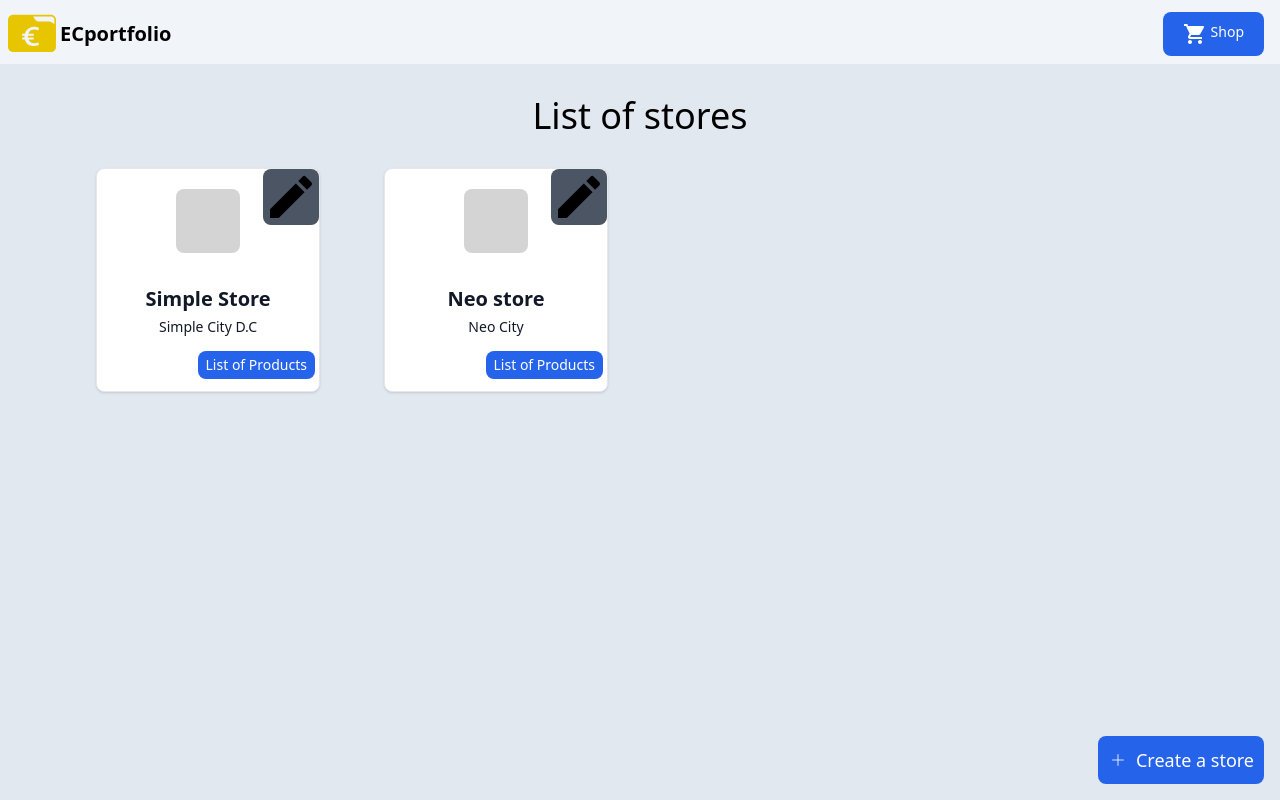
Test: Store Crud Test › Read a store using edit mode
Click the button with id "editButton1" at (291, 197), box [263,169,319,225]
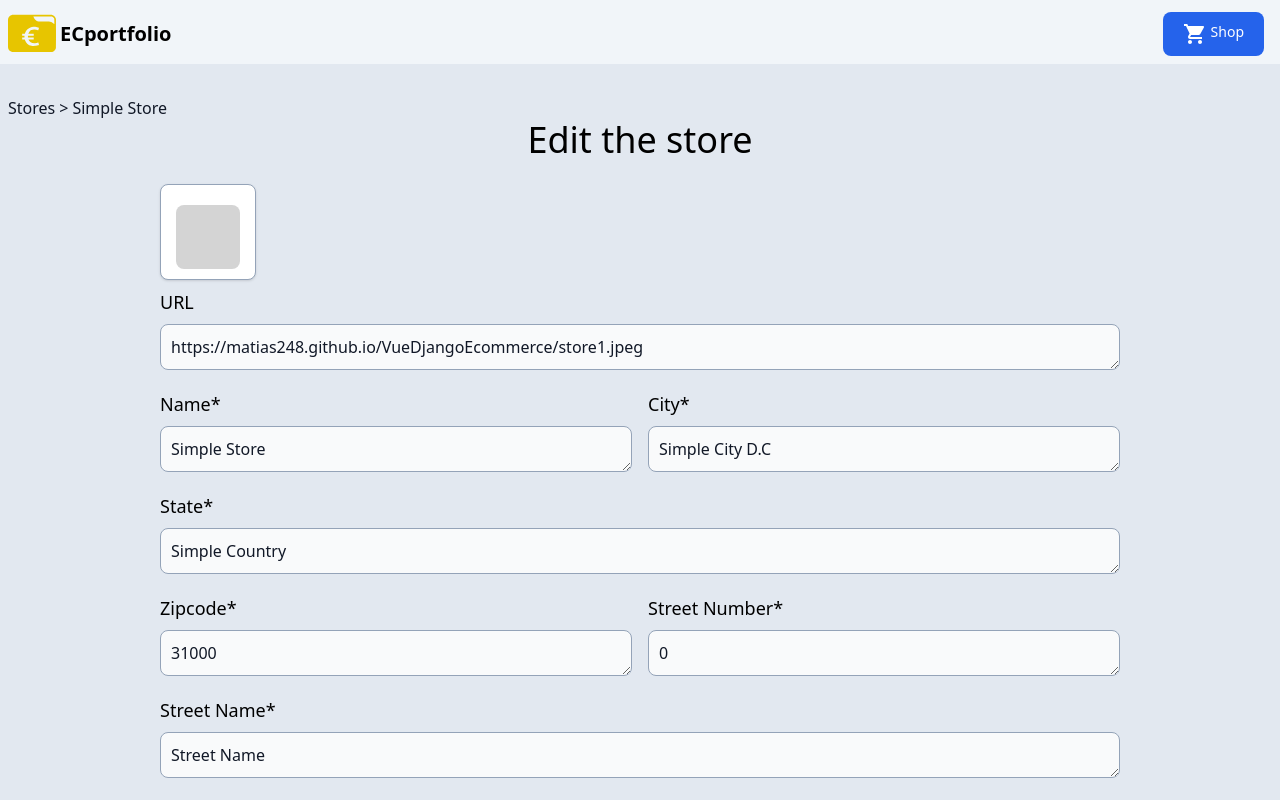
Check: the text box with id "inputString-Name" holds "Simple Store", box [160,426,632,472]
Check: the text box with id "inputString-City" holds "Simple City D.C", box [648,426,1120,472]
Check: the text box with id "inputString-State" holds "Simple Country", box [160,528,1120,574]
